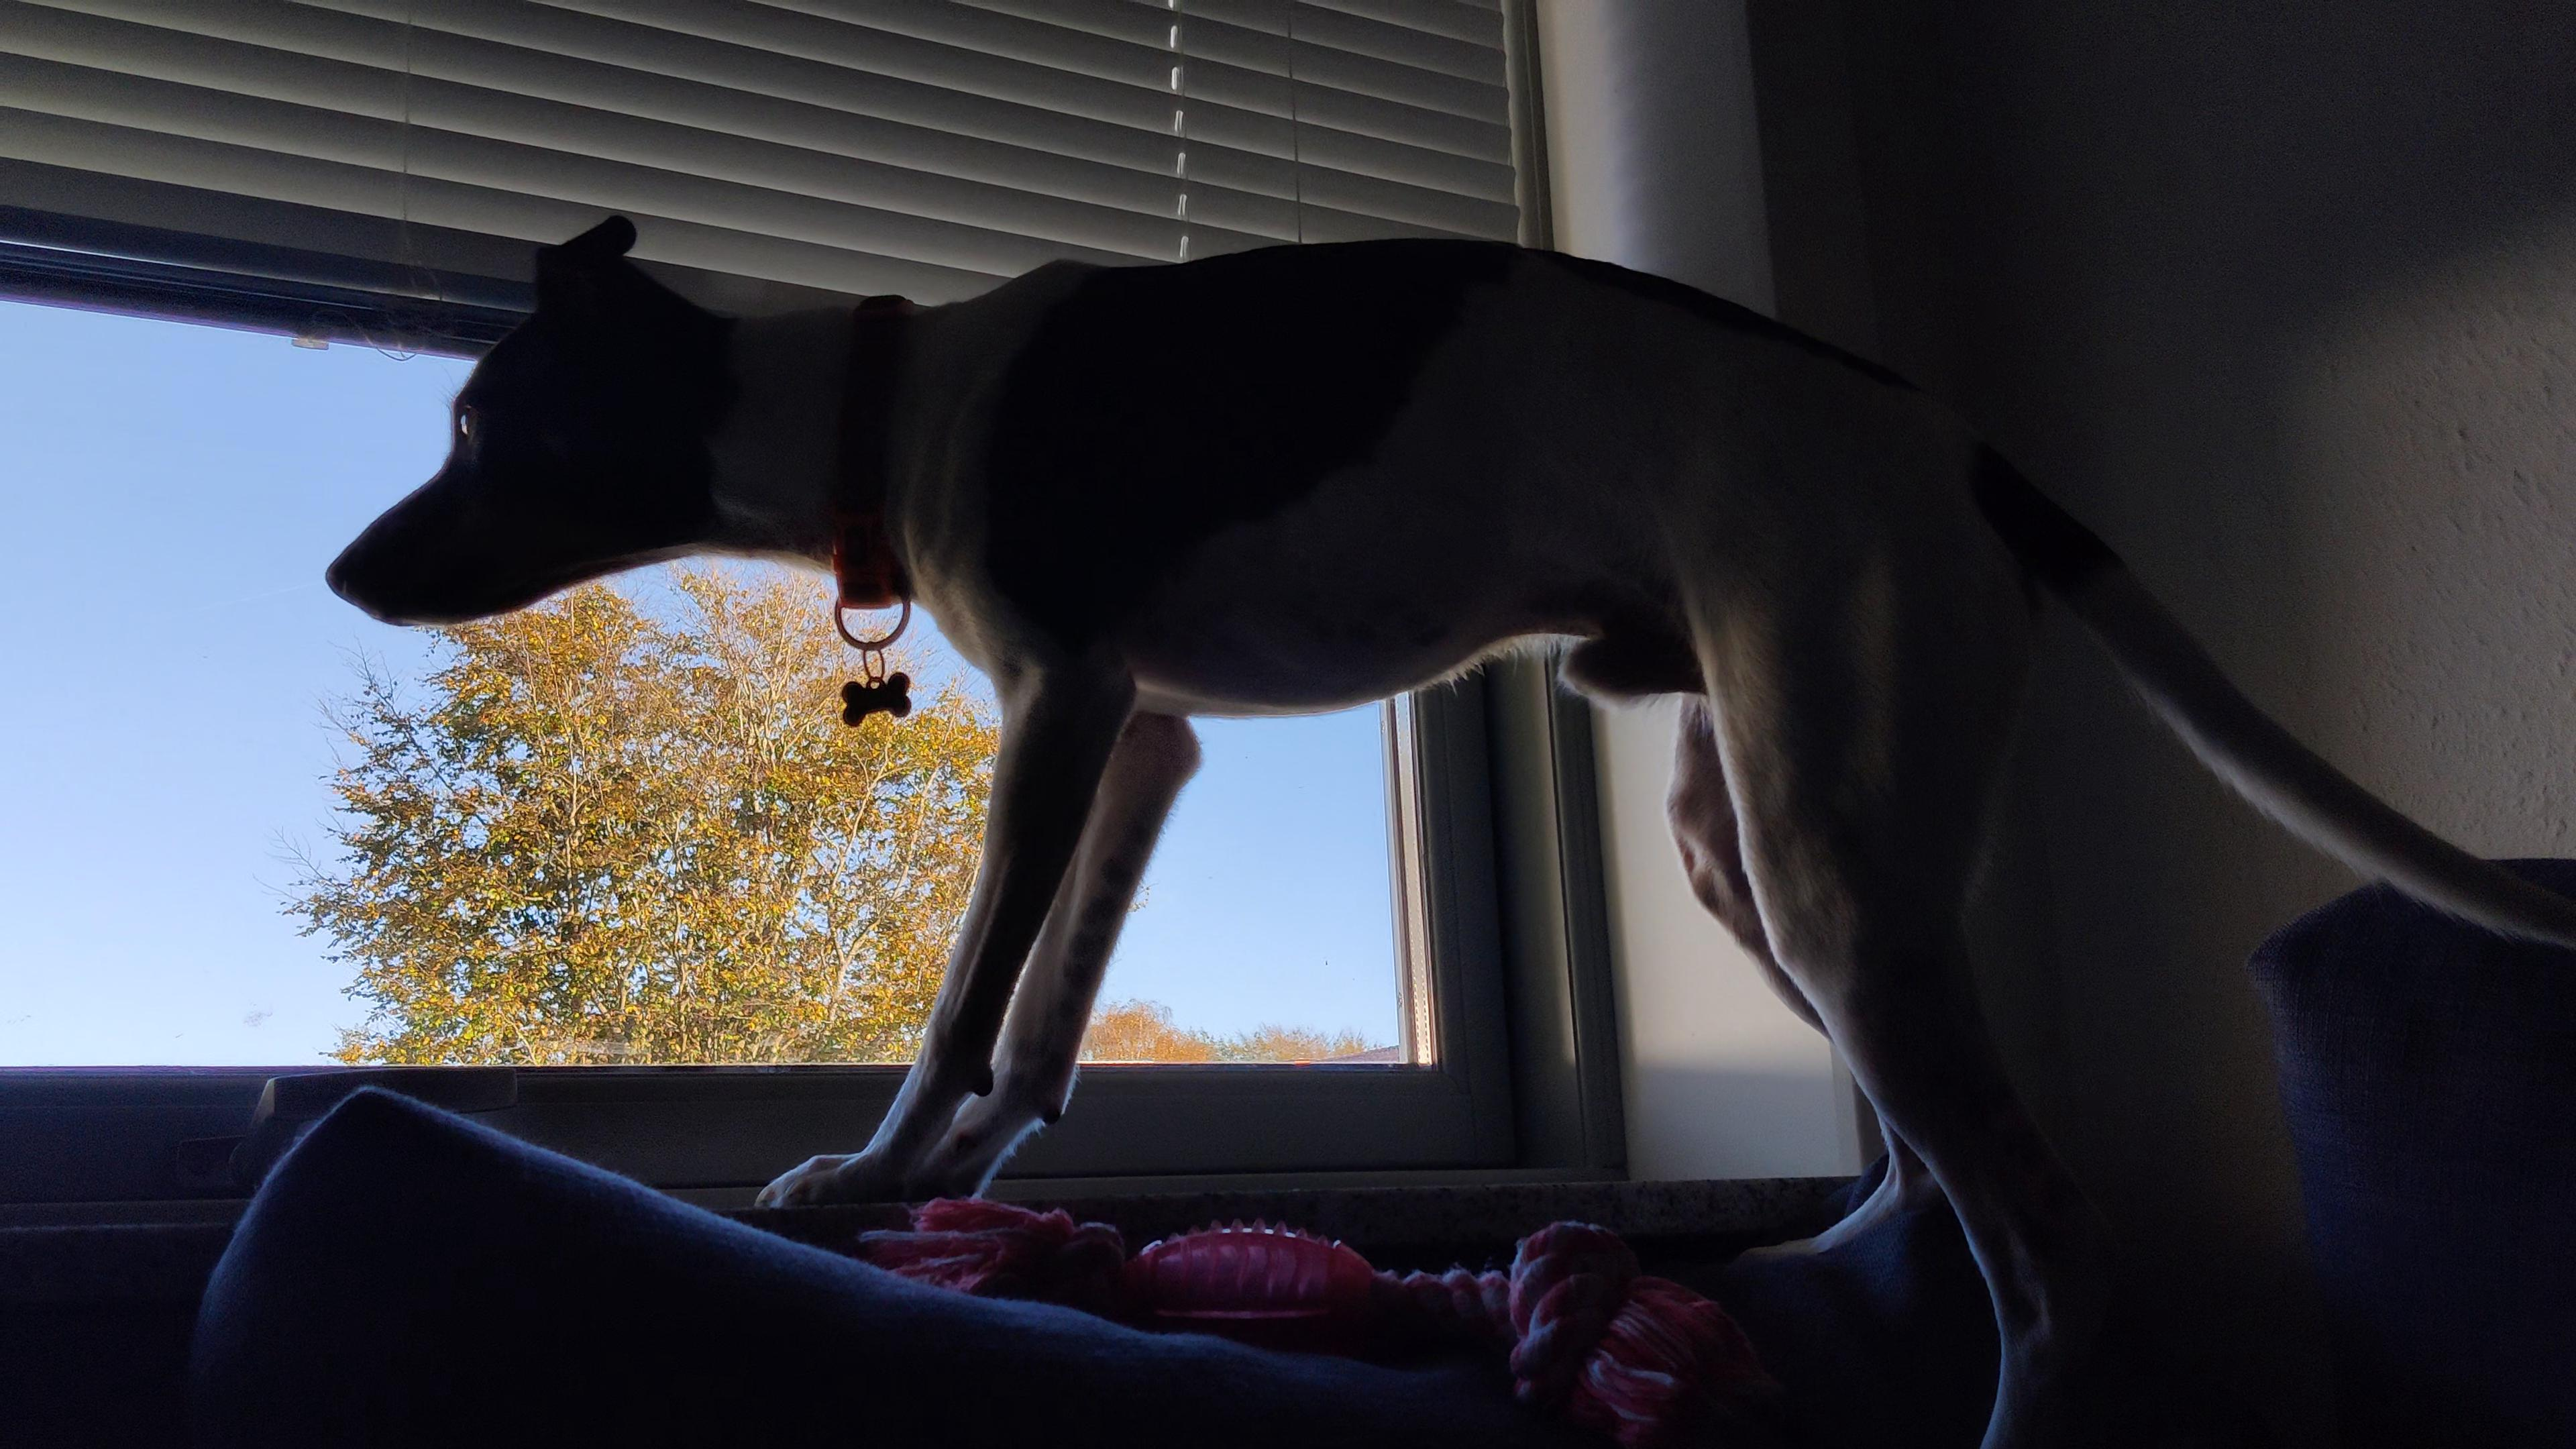Dog: (318, 207, 2576, 1449)
